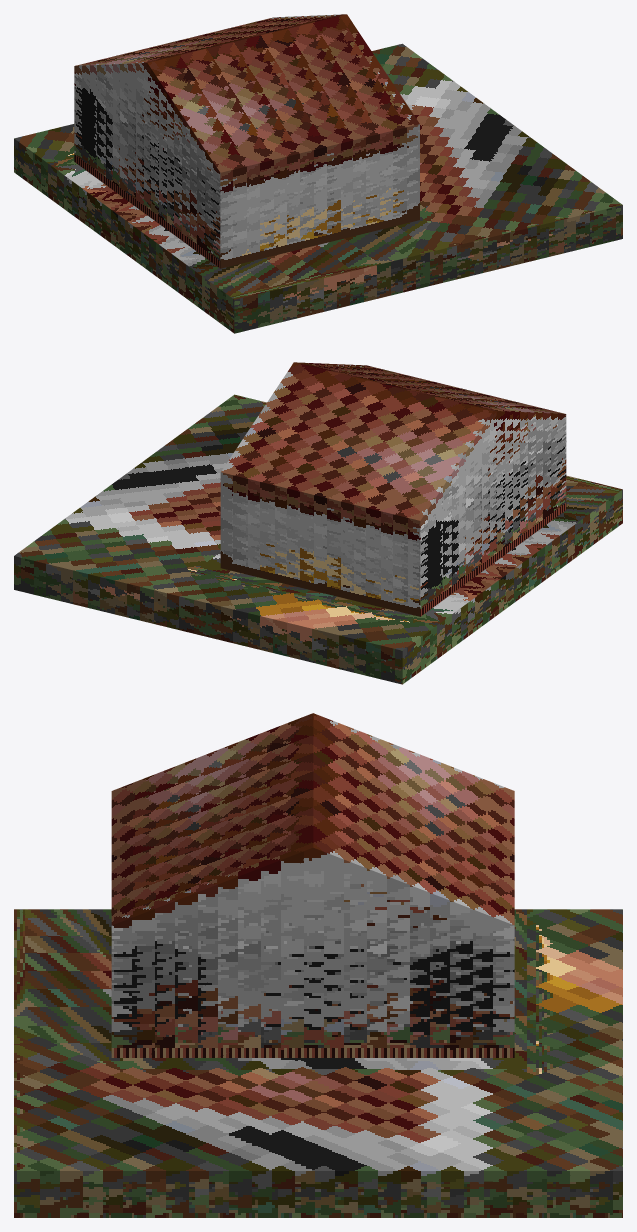
File: dum_51_domy_2.glb
3 views of the same model, one above another, from view 1: azimuth 30°, elevation 25°; view 2: azimuth 150°, elevation 25°; view 3: azimuth 270°, elevation 25° (orthographic). The views are drawn at different scales.
Size of the model in its own units: 13.5 by 6.19 by 13.27.
Materials: 1 (1 with a texture image).
